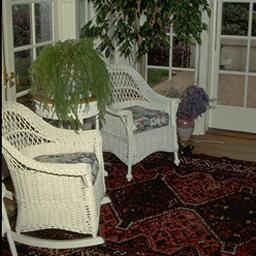Matera: (30, 42, 105, 121)
Puerta: (206, 3, 255, 136)
